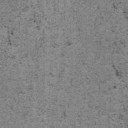oxide scale of temperature system: (8, 36, 12, 45), (116, 70, 122, 76), (8, 30, 14, 35), (113, 4, 118, 9), (67, 42, 72, 46), (123, 11, 128, 14)
